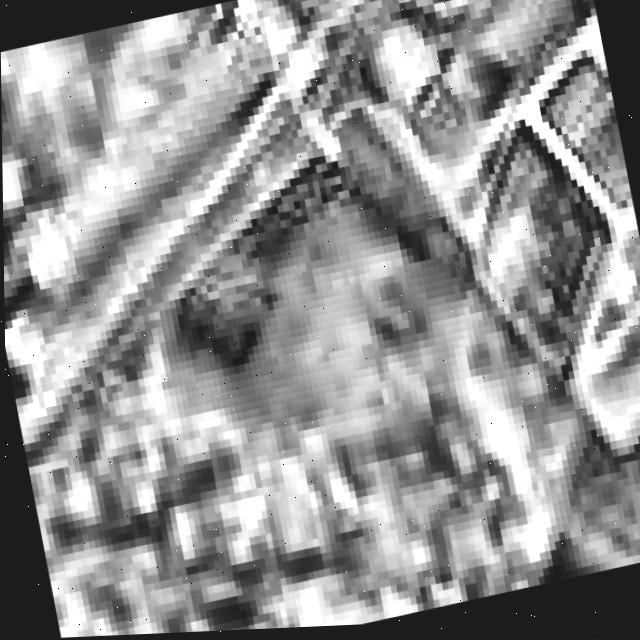excavator: (104, 0, 640, 636)
